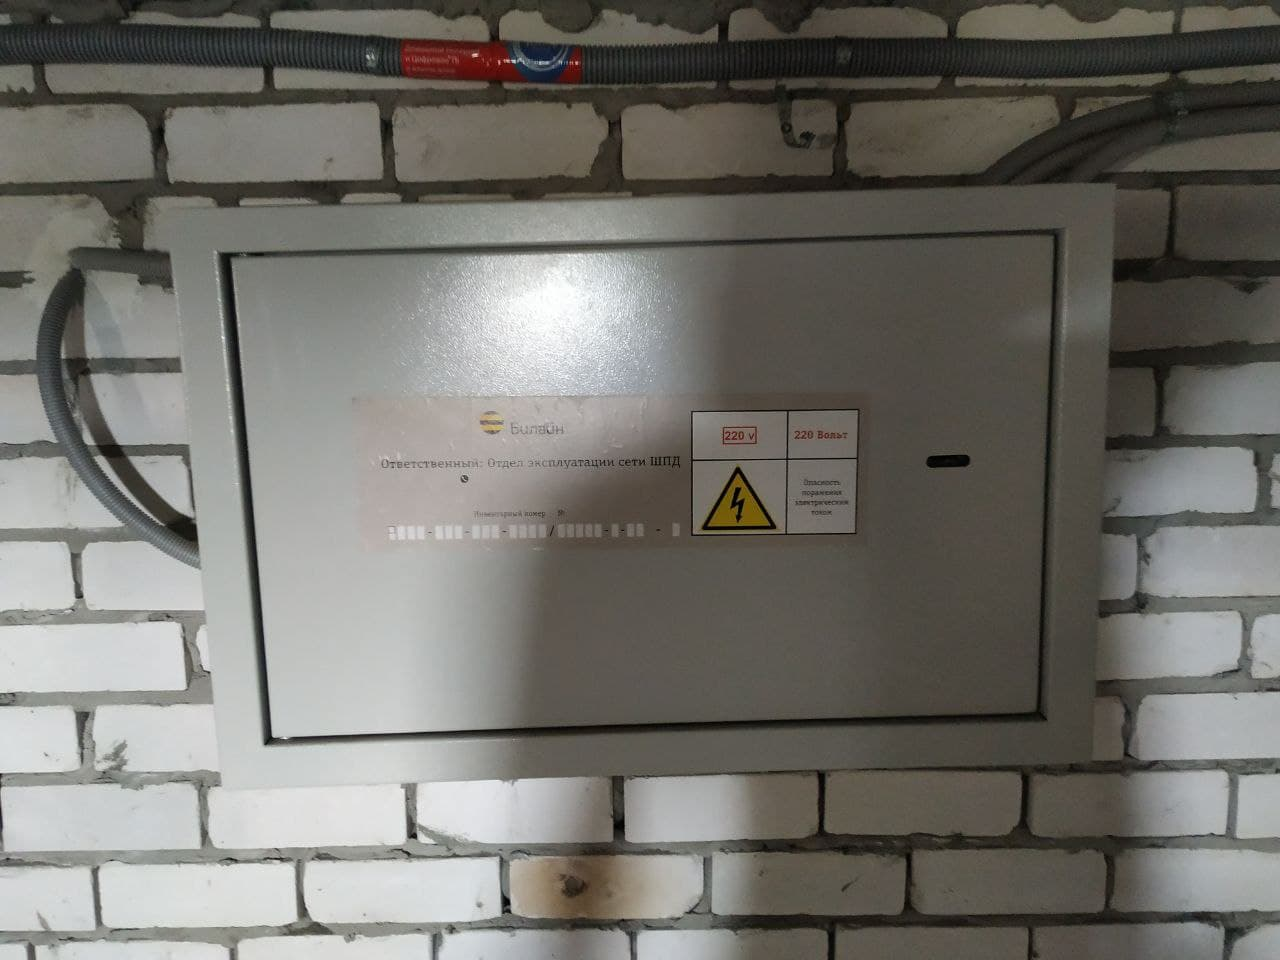shta-7m: (160, 167, 1127, 804)
